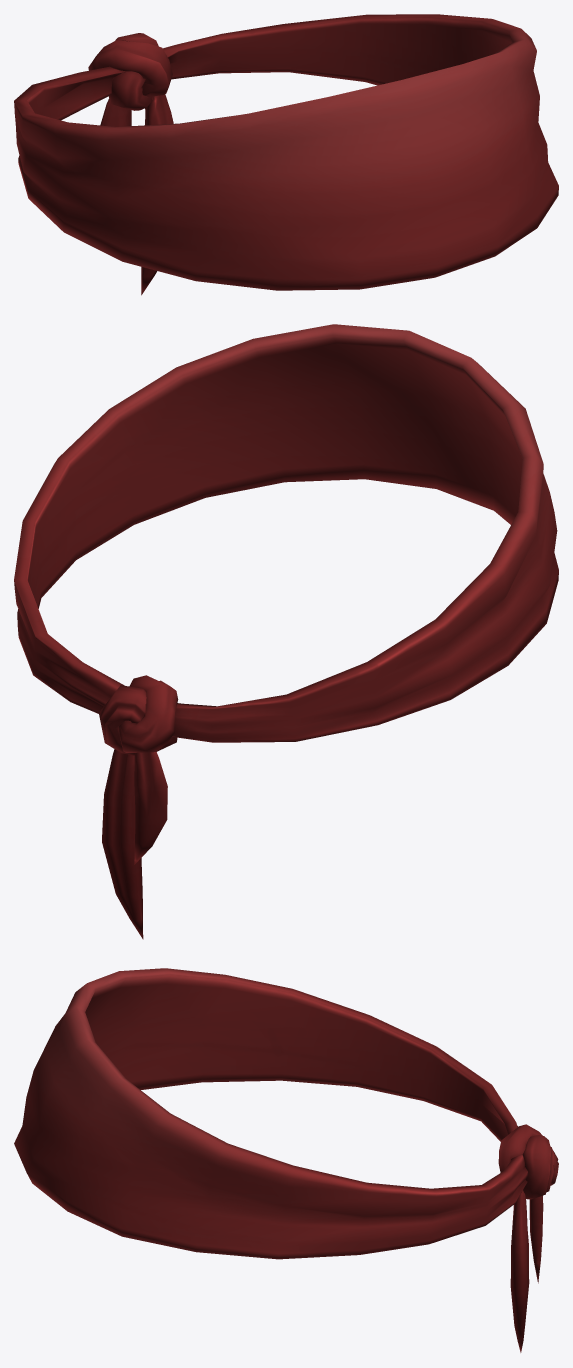
Rendered from Headband.FBX.
3 renders of one model, top to bottom at view 1: azimuth 30°, elevation 25°; view 2: azimuth 150°, elevation 25°; view 3: azimuth 270°, elevation 25°, orthographic. The views are drawn at different scales.
Parts seen in each view (by area): view 1: Headband; view 2: Headband; view 3: Headband.
Boxes of the visible parts, left/top/right/bottom form: Headband: left=14, top=14, right=558, bottom=295; Headband: left=14, top=324, right=558, bottom=939; Headband: left=14, top=968, right=558, bottom=1352.
Bounding box in the file's own units: 31.11 × 27.27 × 38.81.
1 material, 1 textured.
